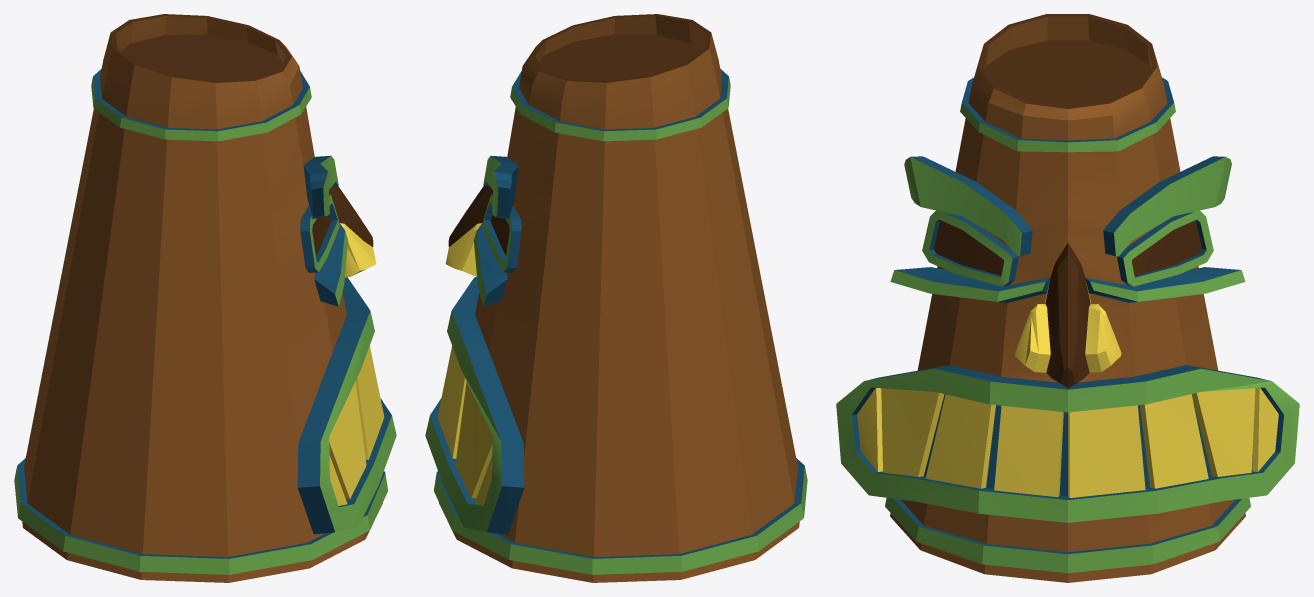
File: tikihead.fbx
The picture shows the model from 3 angles, left to right: view 1: azimuth 30°, elevation 25°; view 2: azimuth 150°, elevation 25°; view 3: azimuth 270°, elevation 25°; orthographic projection. The views are drawn at different scales.
Parts seen in each view (by area): view 1: Cylinder; view 2: Cylinder; view 3: Cylinder.
Boxes of the visible parts, <box> form: Cylinder: <box>14,14,396,582</box>; Cylinder: <box>425,14,807,582</box>; Cylinder: <box>836,14,1299,582</box>.
Bounding box in the file's own units: 297 × 401 × 368.
